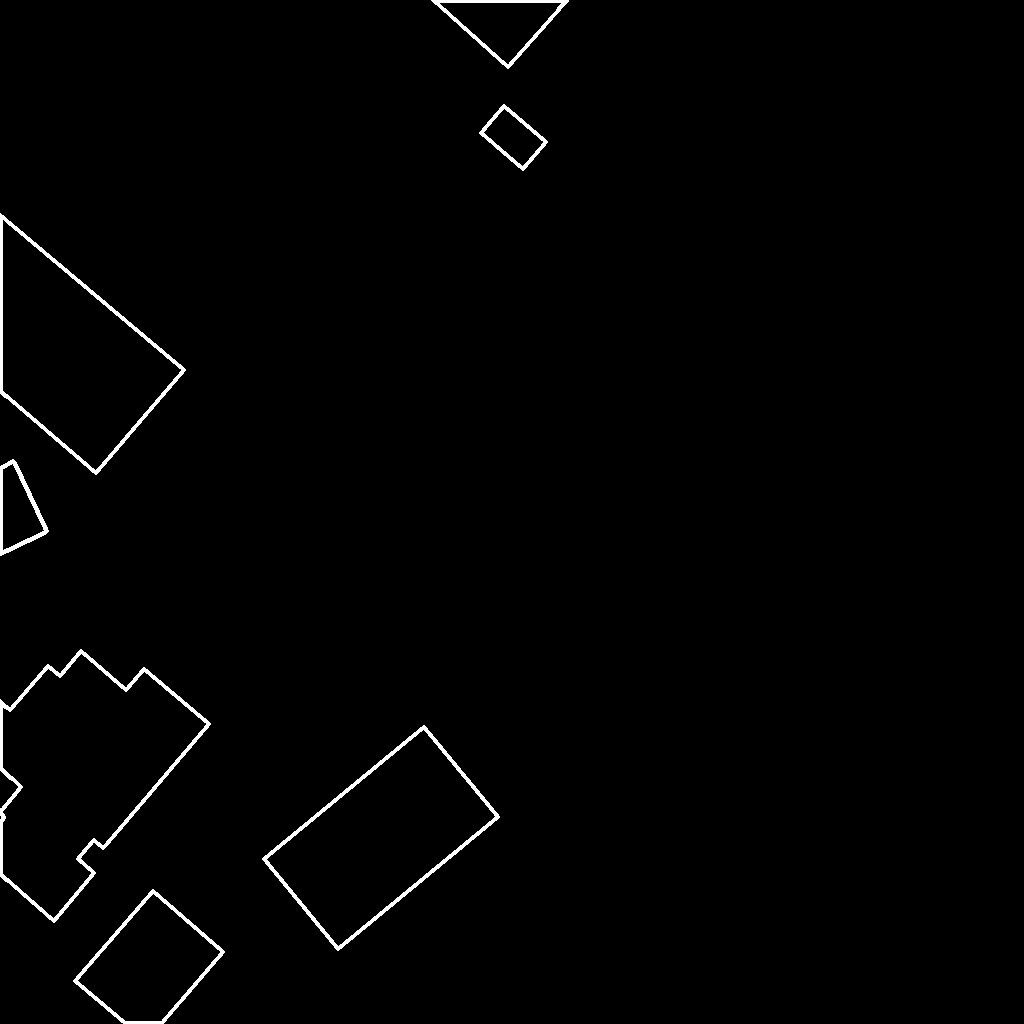building: (0, 651, 210, 922), (264, 727, 499, 950), (0, 215, 185, 474), (75, 891, 224, 1024), (433, 0, 569, 68), (0, 461, 48, 555), (481, 106, 547, 170)
